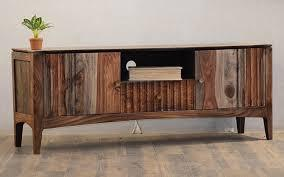console: (6, 42, 282, 154)
